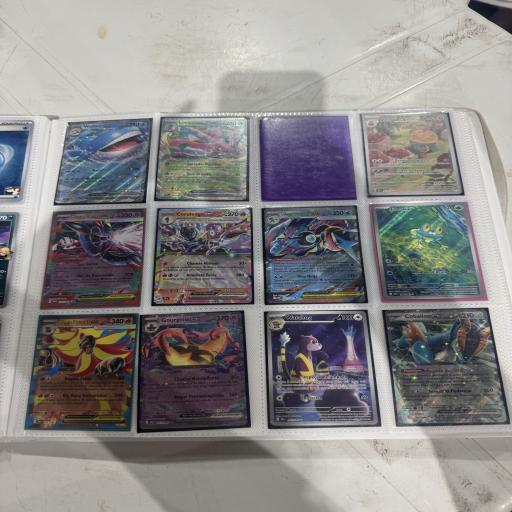card: (385, 297, 508, 435), (133, 310, 247, 431), (267, 309, 378, 428), (27, 313, 137, 429), (371, 202, 485, 300), (37, 209, 147, 308), (263, 206, 367, 305), (153, 208, 252, 304), (361, 112, 462, 197), (55, 117, 152, 205), (156, 115, 249, 200)
